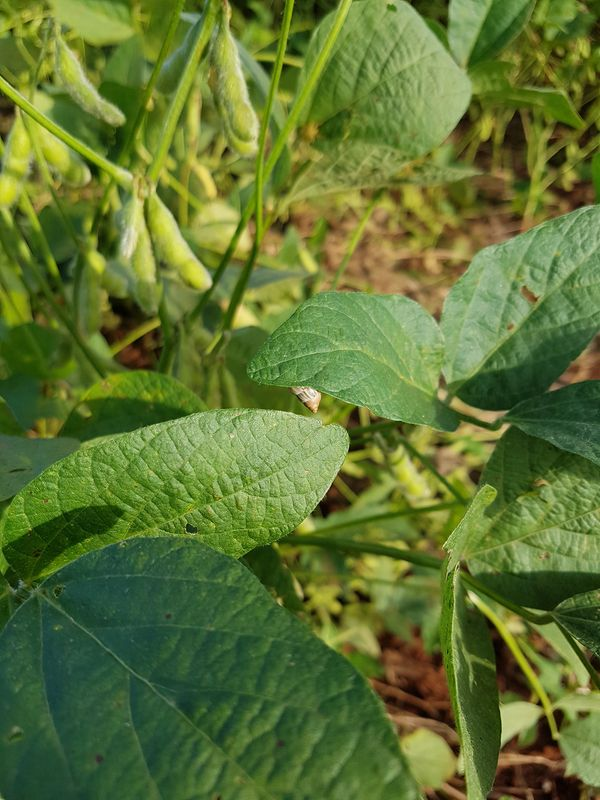Gastropoda: (280, 379, 329, 420)
